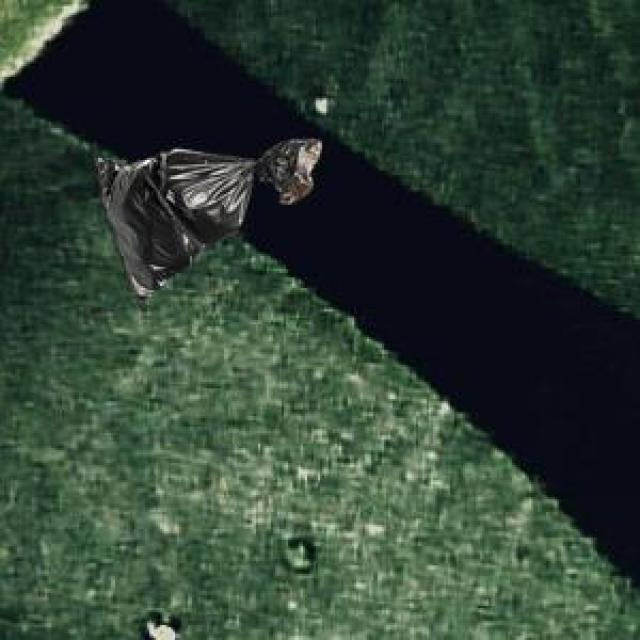Vinyl: (92, 140, 322, 296)
